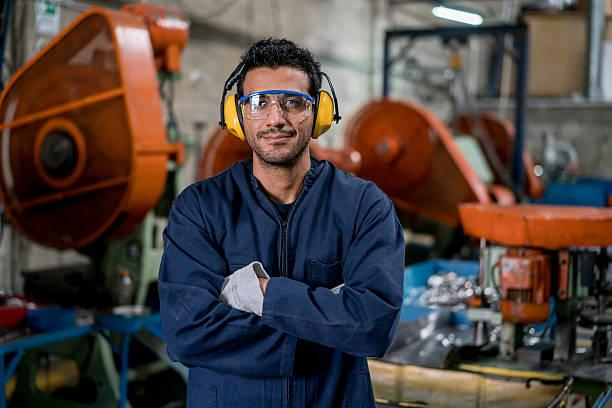fone de seguranca: (215, 48, 346, 139)
oculos de protecao: (234, 88, 319, 117)
pessoa: (138, 28, 414, 408)
